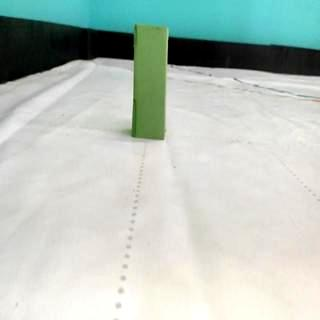greenbox: (129, 26, 167, 141)
